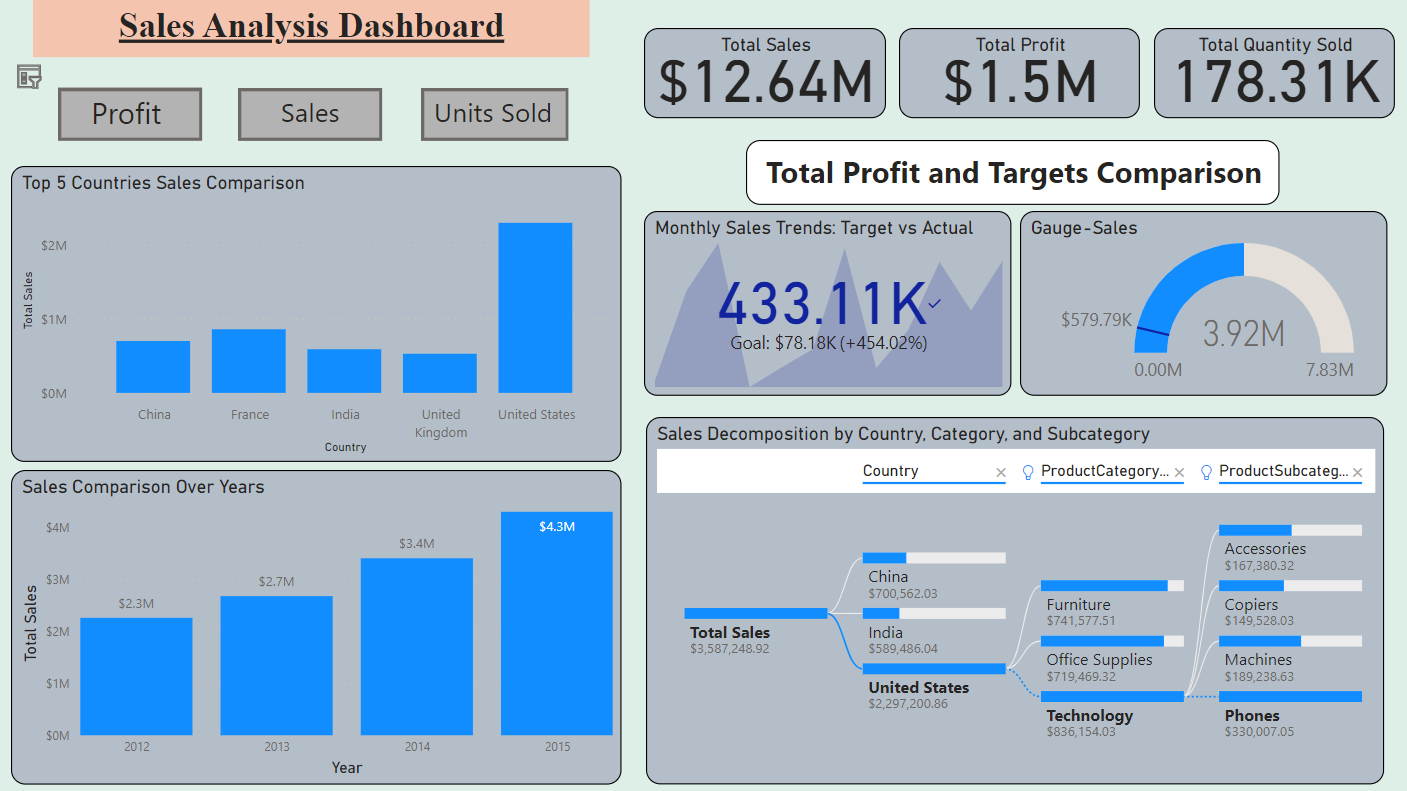

This screenshot's page, from the dashboard's own definition file:
{"tool":"powerbi","page":{"name":"Duplicate of Main Page ","canvas":[1280,720],"ordinal":2},"visuals":[{"type":"textbox","box":[54,78.8,131.4,48.2],"z":0},{"type":"textbox","box":[383.9,80.3,131.4,48.2],"z":1000},{"type":"textbox","box":[217.5,80.3,131.4,48.2],"z":2000},{"type":"actionButton","title":"Profit button","box":[54,80.3,131.4,48.2],"z":3000},{"type":"actionButton","title":"Sales button","box":[217.5,80,131.4,48.2],"z":4000},{"type":"actionButton","title":"Units sold button","box":[383.9,80,134.3,48.2],"z":5000},{"type":"card","title":"Total Sales","fields":{"Values":["Orders.Total Sales"]},"box":[586.4,25.9,219.7,81.9],"z":6000},{"type":"card","title":"Total Quantity Sold","fields":{"Values":["Orders.Total Quantity Sold"]},"box":[1049.9,25.9,219,81.9],"z":7000},{"type":"card","title":"Total Profit ","fields":{"Values":["Orders.Total Profit"]},"box":[818.6,25.9,218.8,81.9],"z":8000},{"type":"textbox","box":[30.6,0,506.5,52],"z":11000},{"type":"textbox","box":[679.1,127,485.3,59.3],"z":12000},{"type":"clusteredColumnChart","title":"Top 5 Countries Profit Comparison","fields":{"Category":["Location.Country","Location.City"],"Y":["Measures_table.Total Profit"]},"box":[11.3,150.8,555.4,269.3],"z":15000},{"type":"columnChart","title":"Profit Comparison Over Years","fields":{"Category":["DateTable.Date.Variation.Date Hierarchy.Year","DateTable.Date.Variation.Date Hierarchy.Quarter","DateTable.Date.Variation.Date Hierarchy.Month","DateTable.Date.Variation.Date Hierarchy.Day"],"Y":["Measures_table.Total Profit"]},"box":[11.3,427.1,555.4,286.2],"z":19000},{"type":"decompositionTreeVisual","title":"Profit Decomposition by Country, Category, and Subcategory","fields":{"ExplainBy":["Location.Country","Product_Category.ProductCategoryName","Product_Subcategory.ProductSubcategoryName"],"Analyze":["Measures_table.Total Profit"]},"box":[586.4,379.2,672.4,334.1],"z":21000},{"type":"kpi","title":"Monthly Profit Trends: Target vs Actual","fields":{"Goal":["Measures_table.Target Profit"],"Indicator":["Measures_table.Total Profit"],"TrendLine":["DateTable.Month"]},"box":[586.4,192.1,334.1,167.9],"z":25000},{"type":"gauge","title":"Profit Meter","fields":{"Y":["Measures_table.Total Profit"],"TargetValue":["Measures_table.Target Profit"]},"box":[928,192.1,334.1,167.9],"z":27000},{"type":"actionButton","title":"Slicer Button","box":[11.4,50.6,31,36.2],"z":29000}]}

Visuals, with their boxes in screenshot pixels (x1, y1, x2, y2), scaled from the page's 1280x720 canvas onto the 1407x791 screenshot:
textbox: bbox=[59, 87, 204, 140]
textbox: bbox=[422, 88, 566, 141]
textbox: bbox=[239, 88, 384, 141]
"Profit button" actionButton: bbox=[59, 88, 204, 141]
"Sales button" actionButton: bbox=[239, 88, 384, 141]
"Units sold button" actionButton: bbox=[422, 88, 570, 141]
"Total Sales" card: bbox=[645, 28, 886, 118]
"Total Quantity Sold" card: bbox=[1154, 28, 1395, 118]
"Total Profit " card: bbox=[900, 28, 1140, 118]
textbox: bbox=[34, 0, 590, 57]
textbox: bbox=[746, 140, 1280, 205]
"Top 5 Countries Profit Comparison" clusteredColumnChart: bbox=[12, 166, 623, 462]
"Profit Comparison Over Years" columnChart: bbox=[12, 469, 623, 784]
"Profit Decomposition by Country, Category, and Subcategory" decompositionTreeVisual: bbox=[645, 417, 1384, 784]
"Monthly Profit Trends: Target vs Actual" kpi: bbox=[645, 211, 1012, 396]
"Profit Meter" gauge: bbox=[1020, 211, 1387, 396]
"Slicer Button" actionButton: bbox=[13, 56, 47, 95]
